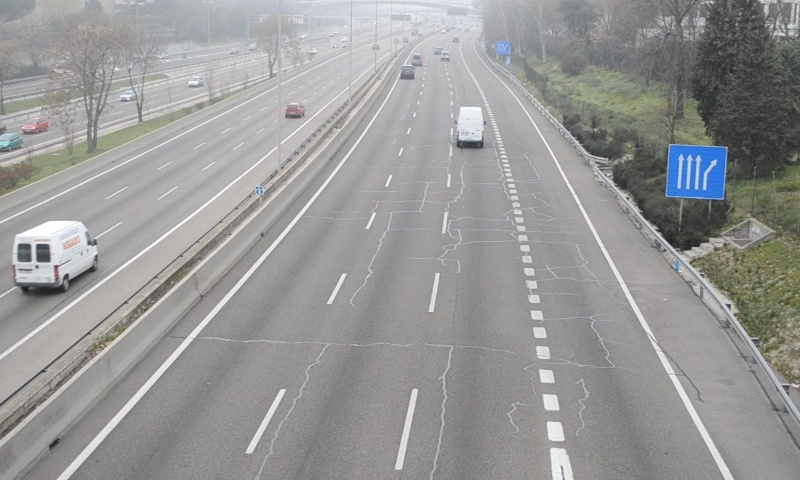car: (400, 64, 416, 80)
van: (456, 106, 486, 148)
